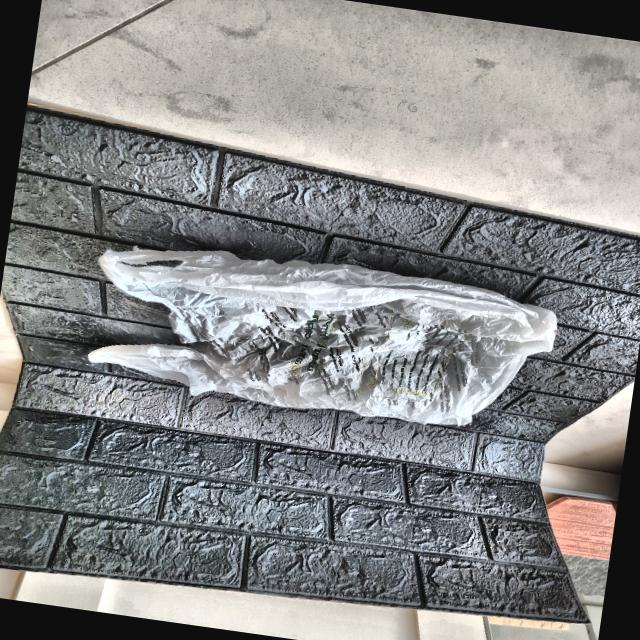plastic bag: (73, 223, 564, 442)
